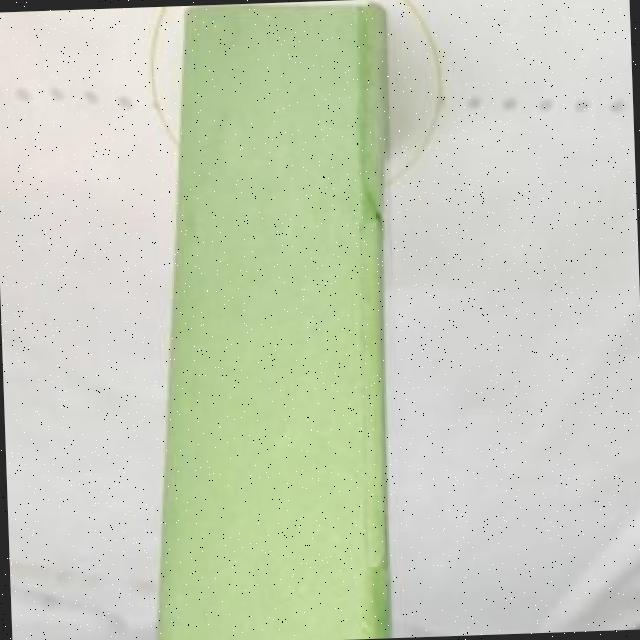greenbox: (122, 0, 411, 640)
